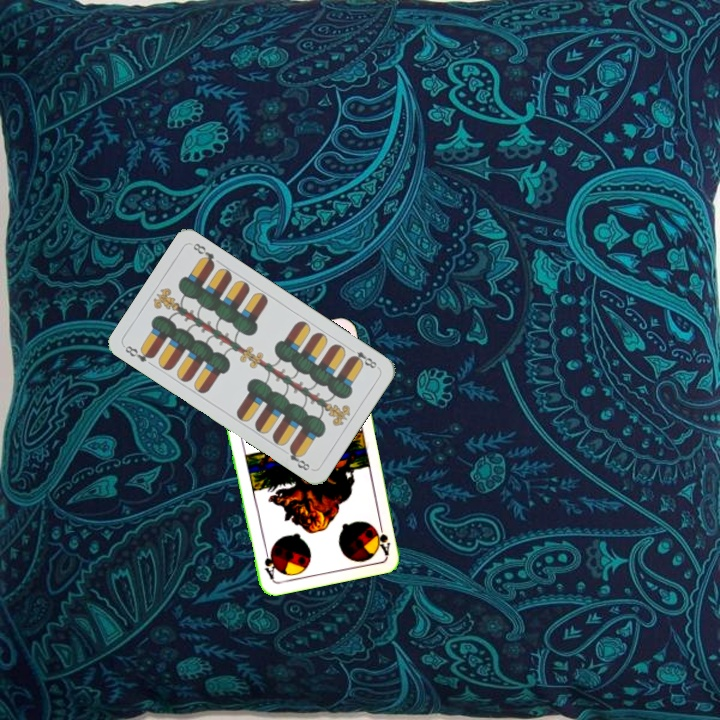E8: (346, 343, 381, 371), (121, 341, 157, 365)
SA: (372, 516, 393, 557)
